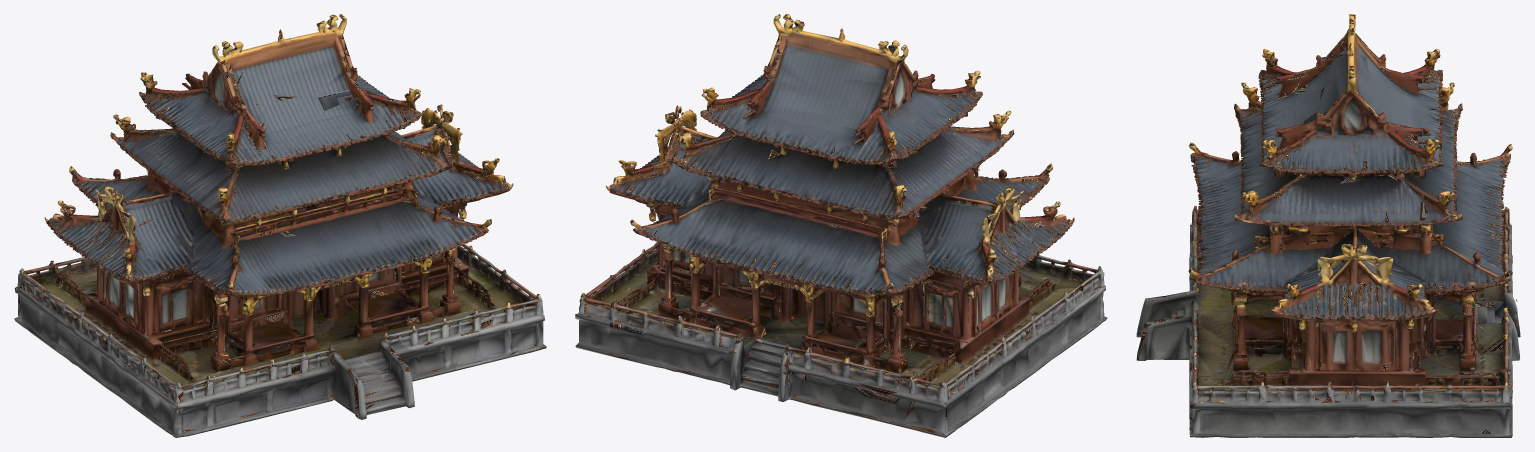
Rendered from chua-phai.glb.
The picture shows the model from 3 angles, left to right: view 1: azimuth 30°, elevation 25°; view 2: azimuth 150°, elevation 25°; view 3: azimuth 270°, elevation 25°; orthographic projection.
Visible parts, largest first — view 1: Mesh_0; view 2: Mesh_0; view 3: Mesh_0.
Part boxes in pixels (x1,y1,x2,y2): Mesh_0: (14, 14, 546, 437); Mesh_0: (575, 14, 1107, 437); Mesh_0: (1136, 14, 1520, 437).
Bounding box in the file's own units: 1.9 × 1.44 × 1.64.
1 material, 1 textured.
